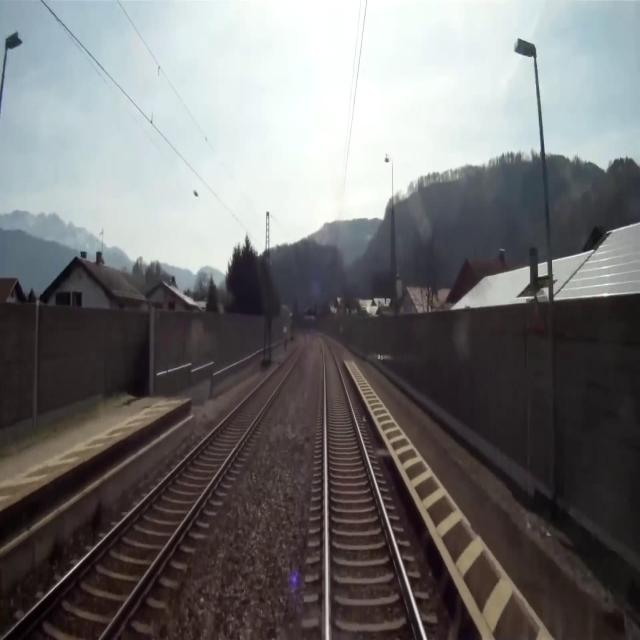rail-track: (6, 344, 302, 639), (320, 337, 422, 639)
